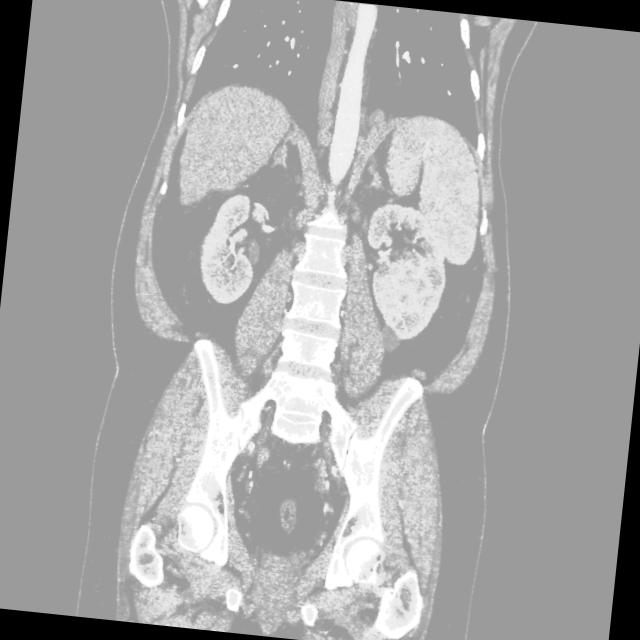TUMOR: (147, 181, 633, 489)
